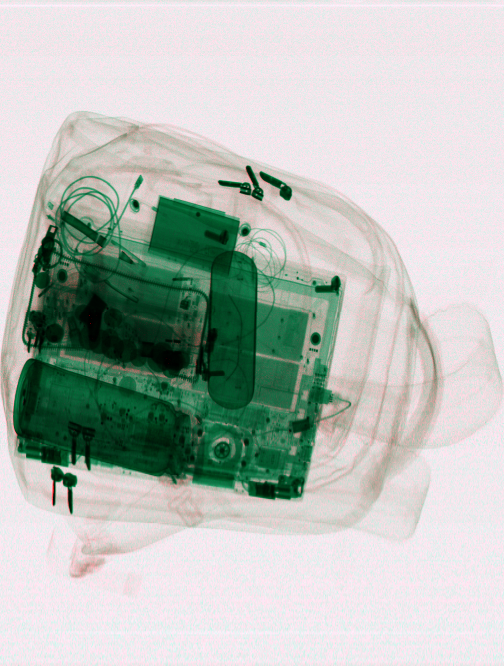Glass Bottle: (13, 359, 192, 478)
